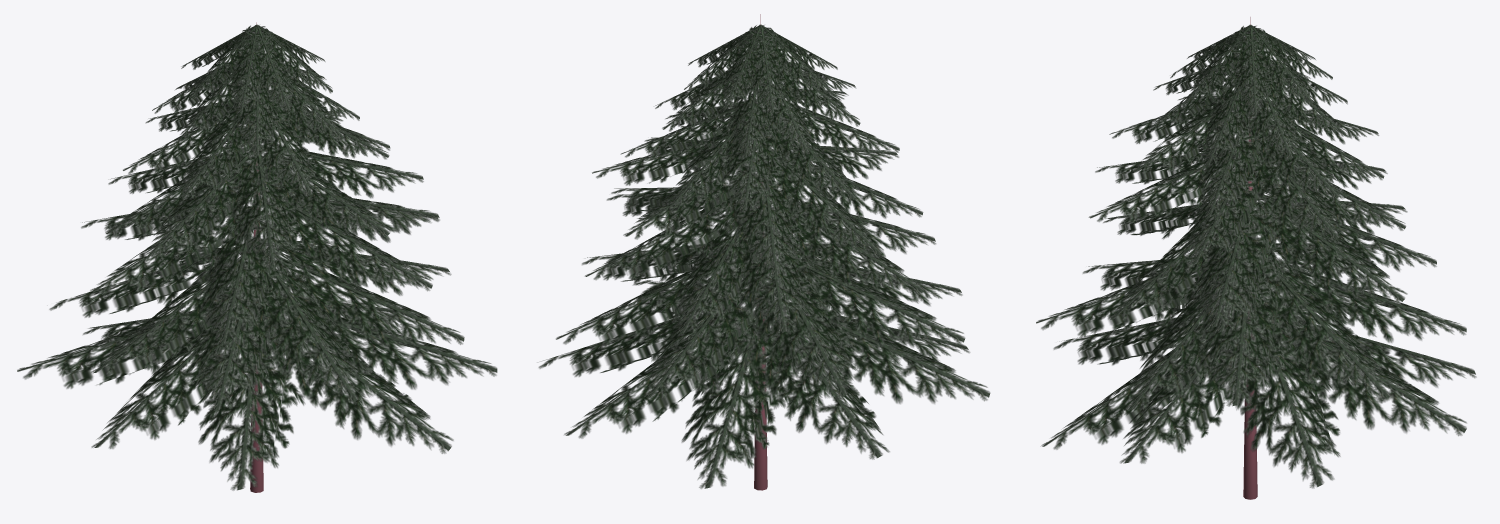
File: treepine.glb
The picture shows the model from 3 angles, left to right: view 1: azimuth 30°, elevation 25°; view 2: azimuth 150°, elevation 25°; view 3: azimuth 270°, elevation 25°; orthographic projection.
Parts seen in each view (by area): view 1: Branch, Trunk; view 2: Branch, Trunk; view 3: Branch, Trunk.
Boxes of the visible parts, x1=… form: Branch: x1=17, y1=24, x2=497, y2=490; Trunk: x1=250, y1=22, x2=263, y2=492; Branch: x1=537, y1=24, x2=990, y2=488; Trunk: x1=754, y1=14, x2=767, y2=490; Branch: x1=1036, y1=24, x2=1476, y2=488; Trunk: x1=1243, y1=17, x2=1257, y2=499.
Size of the model in its own units: 15.43 by 17.39 by 14.91.
Materials: 2 (1 with a texture image).
